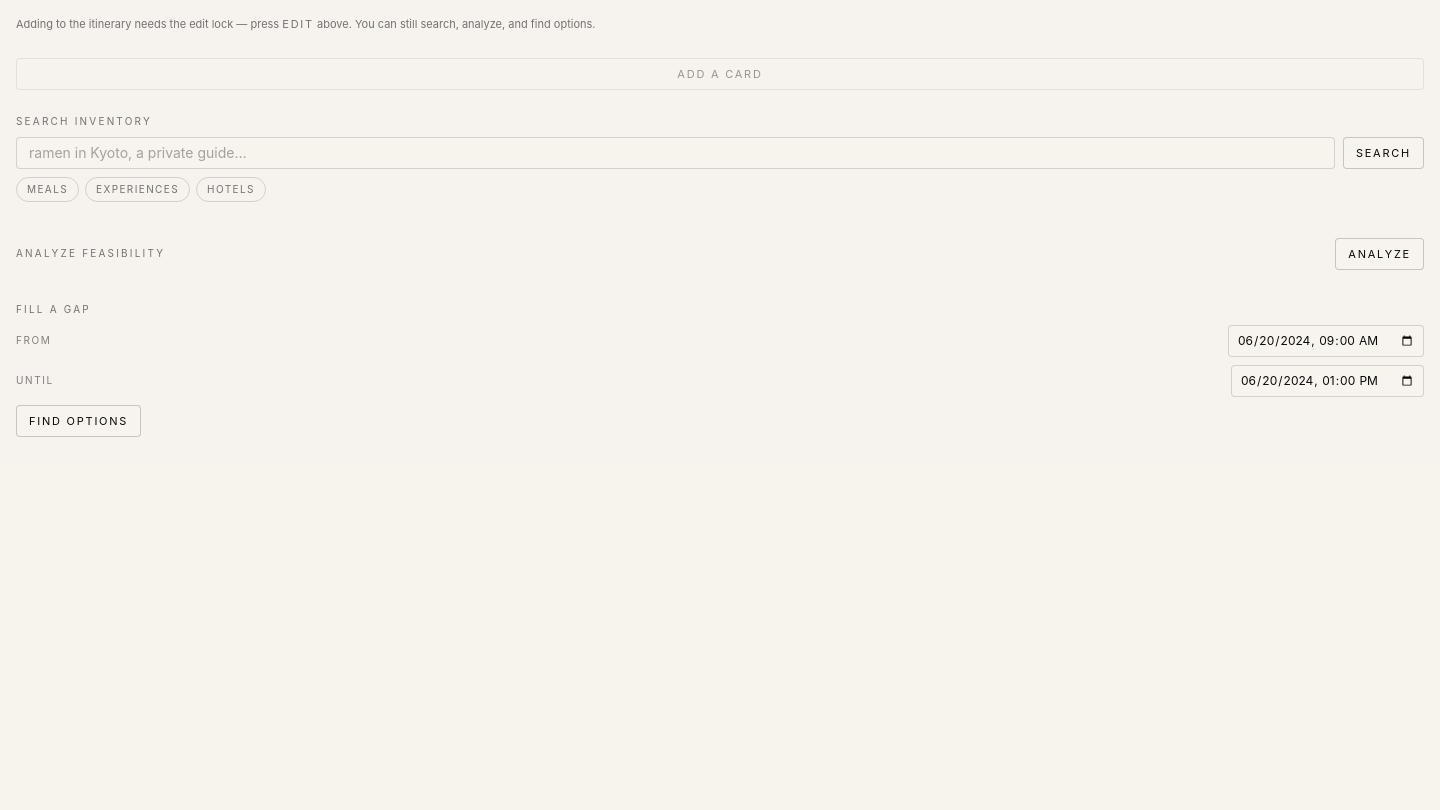
Test: AuthoringPanel › without the lock, the panel warns and disables Add
Expected: the element with test id "itinerary-graph-authoring-locked" is shown, [16,17,596,31]
Step 1. Type "sushi" into the field with test id "itinerary-graph-search-input" → (675, 153), box [16,137,1335,169]
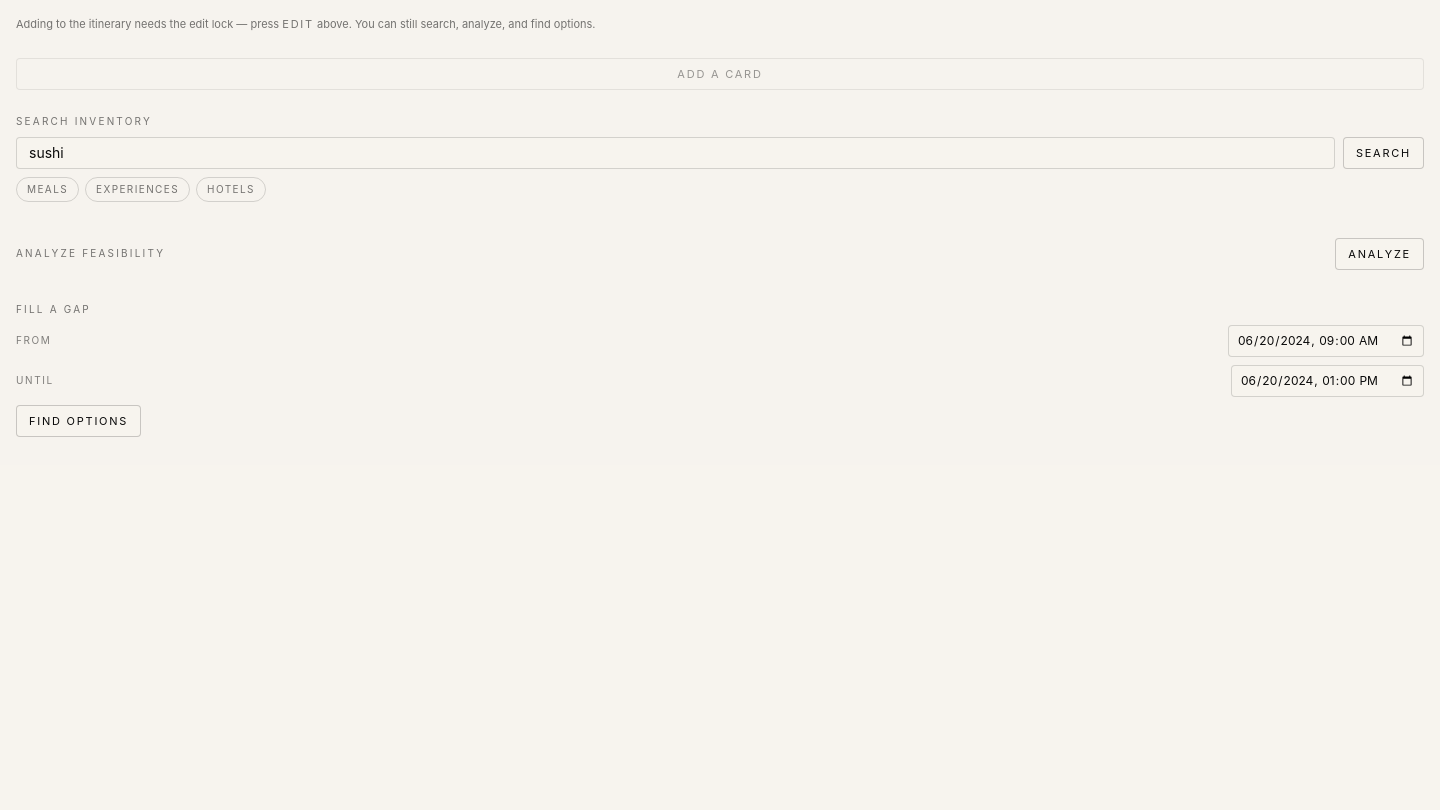
Step 2. Click the button with test id "itinerary-graph-search-run" → (1383, 153), box [1343,137,1424,169]
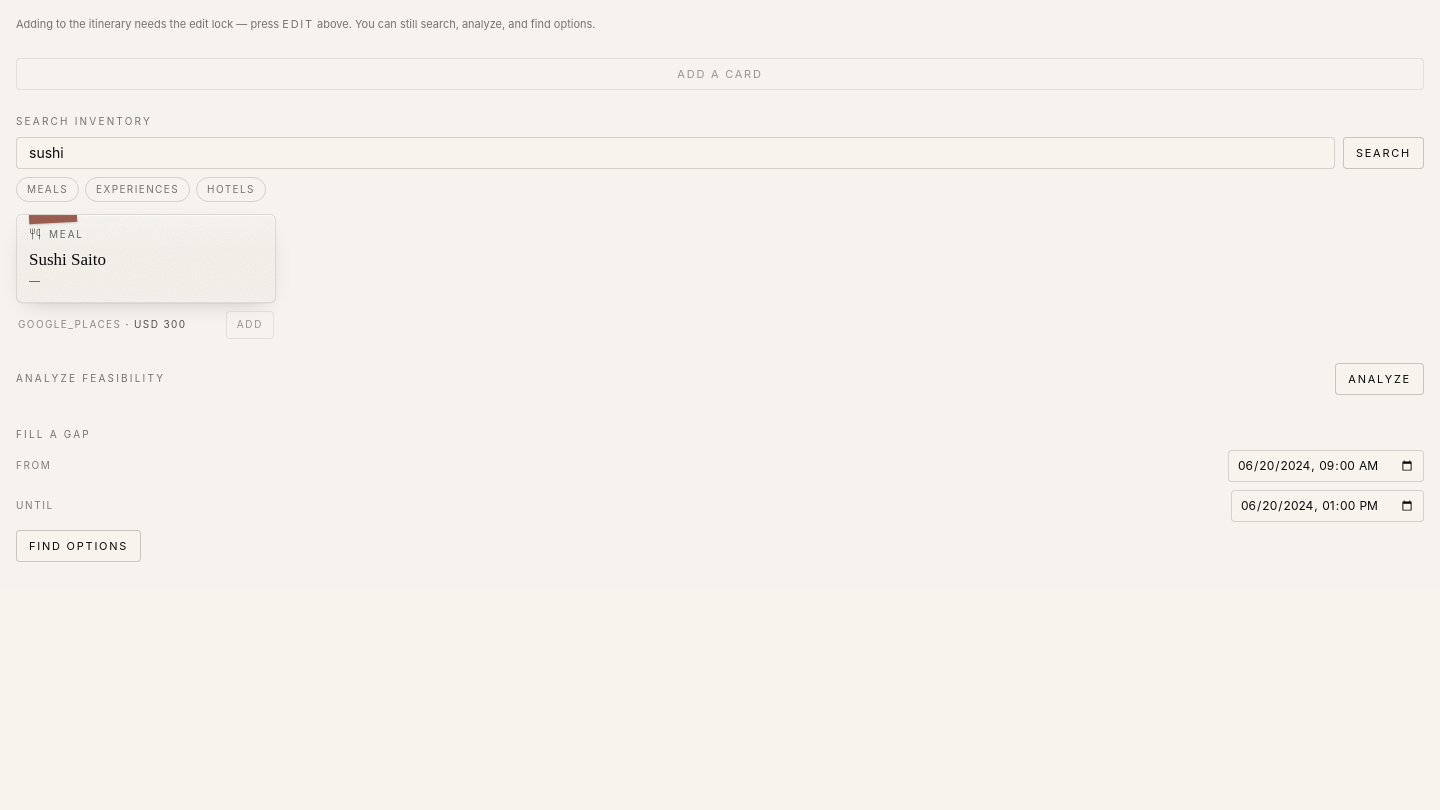
Expected: the button with test id "itinerary-graph-search-add" is disabled, [226,311,274,339]
